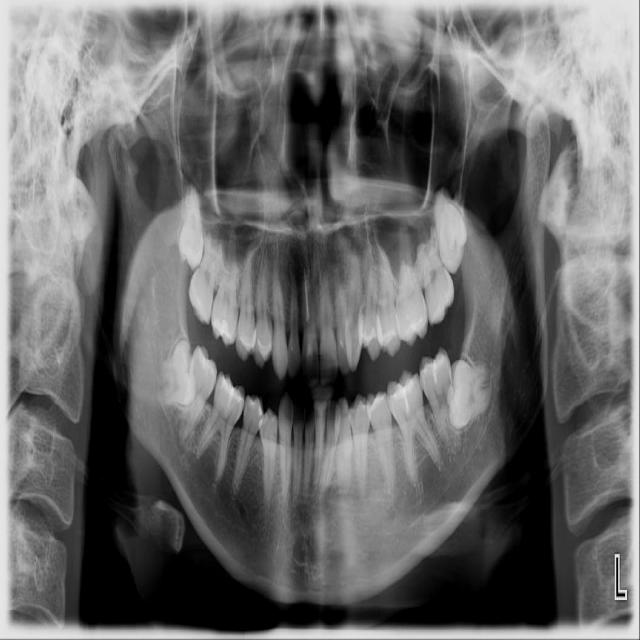Filling: (212, 318, 230, 339)
Periapical lesion: (285, 246, 310, 286)
Root Canal Treatment: (305, 272, 309, 332)
impacted tooth: (449, 359, 491, 433), (433, 190, 465, 273), (156, 341, 197, 405), (179, 185, 205, 267)
